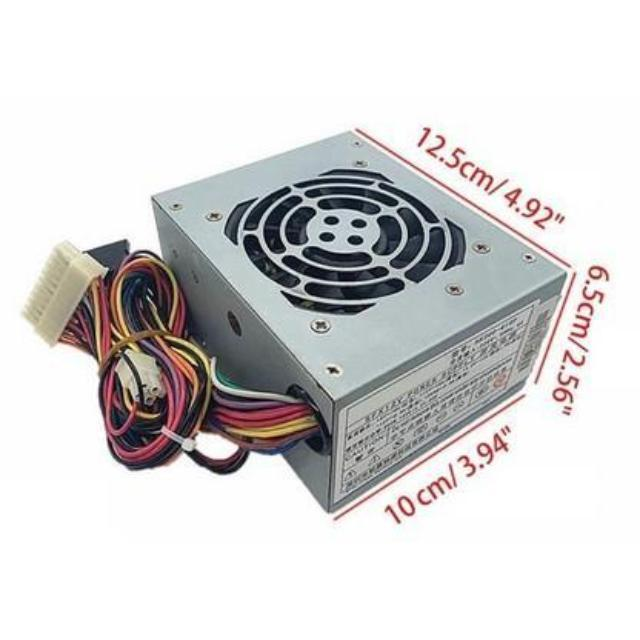PSU: (145, 122, 578, 520)
